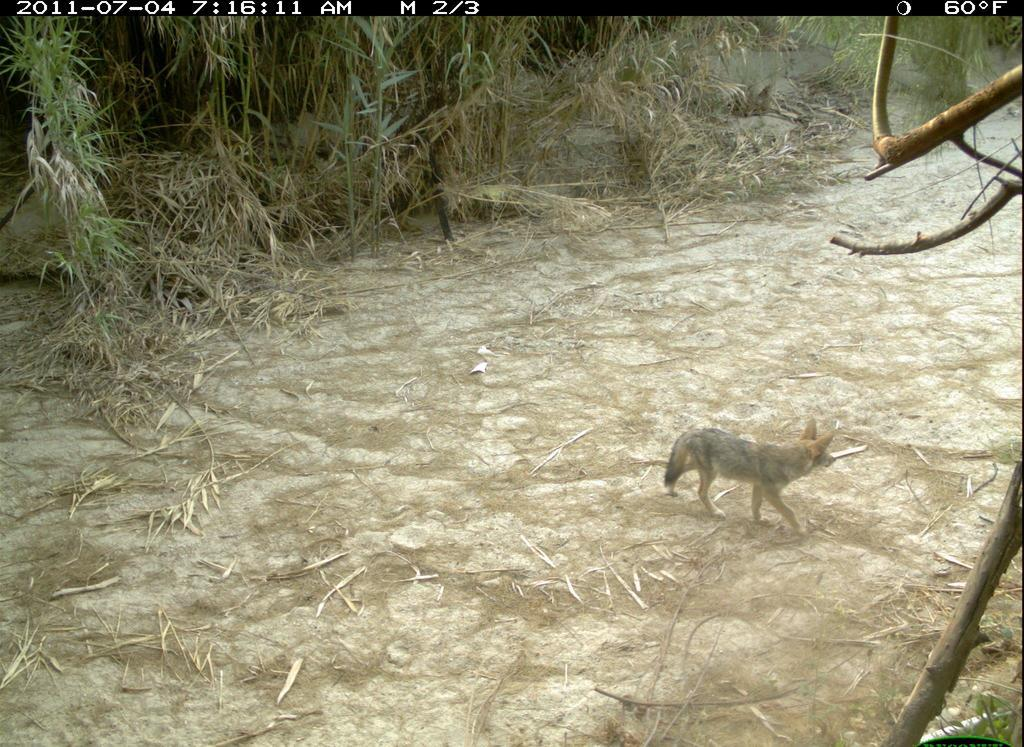coyote: (666, 418, 841, 545)
